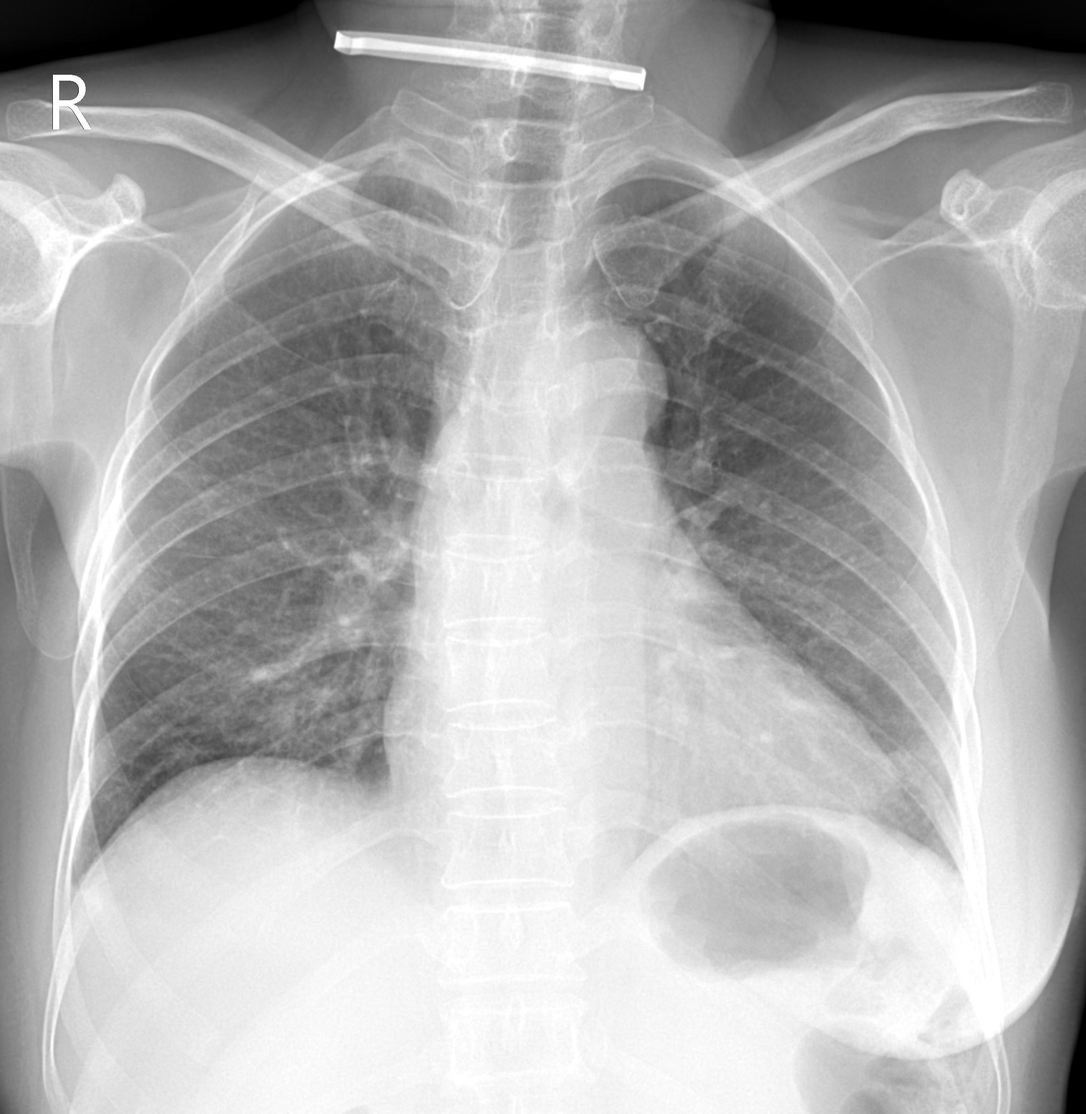Aortic enlargement: (548, 327, 669, 446)
Cardiomegaly: (380, 661, 902, 830)
